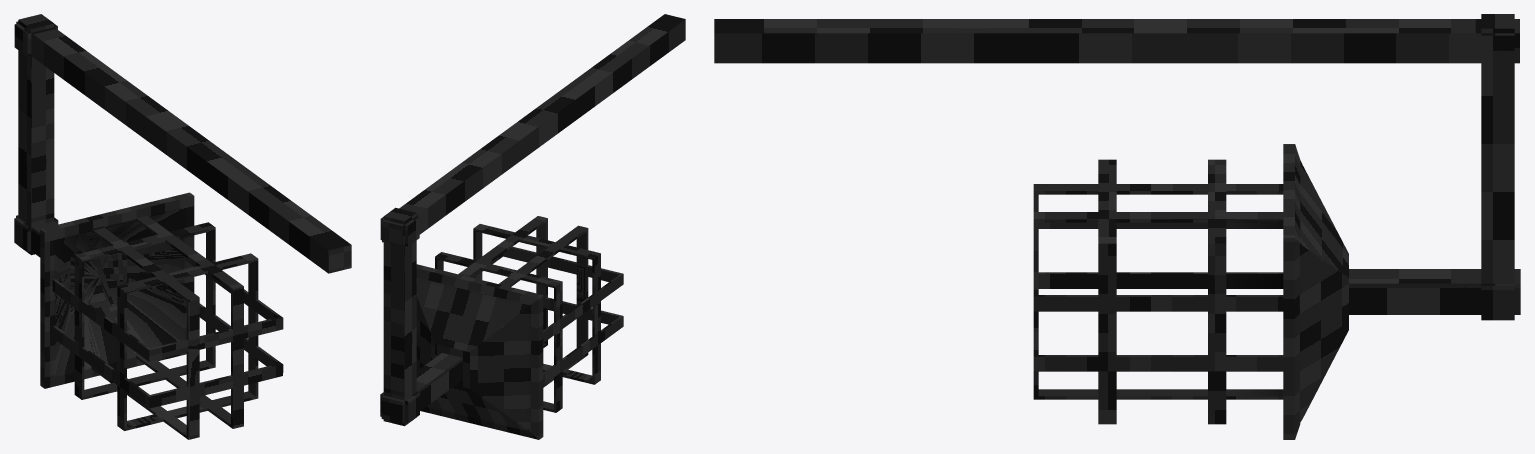
File: outdoor_lamp_NoLight.fbx
3 renders of one model, left to right at view 1: azimuth 30°, elevation 25°; view 2: azimuth 150°, elevation 25°; view 3: azimuth 270°, elevation 25°, orthographic. The views are drawn at different scales.
Visible parts, largest first — view 1: outdoor_lamp_NoLight; view 2: outdoor_lamp_NoLight; view 3: outdoor_lamp_NoLight.
Boxes of the visible parts, x1=… form: outdoor_lamp_NoLight: x1=14, y1=14, x2=351, y2=439; outdoor_lamp_NoLight: x1=380, y1=14, x2=685, y2=439; outdoor_lamp_NoLight: x1=714, y1=14, x2=1520, y2=439.
Bounding box in the file's own units: 58.14 × 107 × 210.
1 material, 1 textured.
